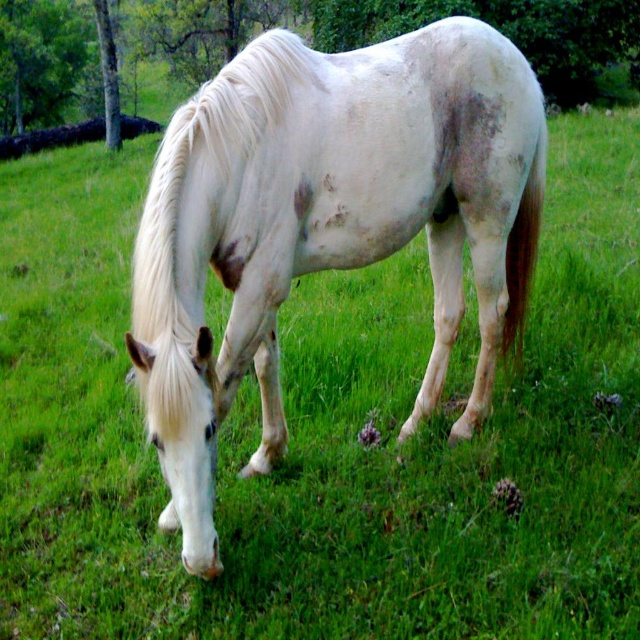Horse: (123, 24, 550, 580)
